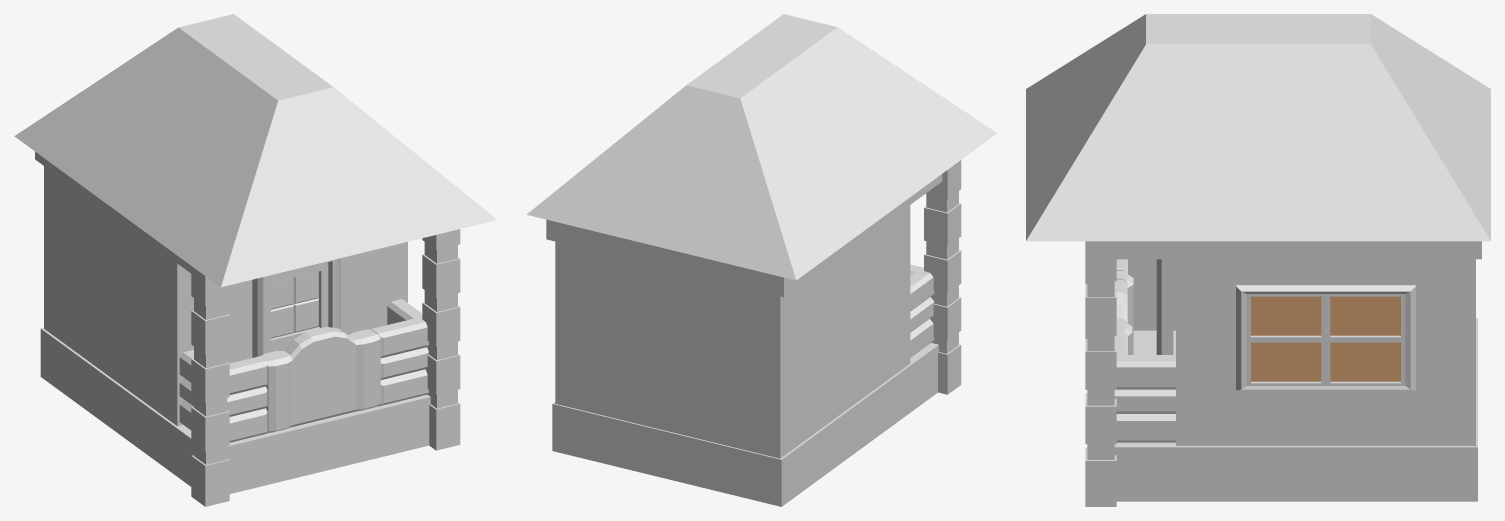
File: small_house_proc.fbx
3 renders of one model, left to right at view 1: azimuth 30°, elevation 25°; view 2: azimuth 150°, elevation 25°; view 3: azimuth 270°, elevation 25°, orthographic. The views are drawn at different scales.
Parts seen in each view (by area): view 1: small_house_proc; view 2: small_house_proc; view 3: small_house_proc.
Part boxes in pixels (x1,y1,x2,y2): small_house_proc: [14, 14, 497, 506]; small_house_proc: [526, 14, 997, 506]; small_house_proc: [1026, 14, 1490, 506].
Bounding box in the file's own units: 240 × 300 × 310.
